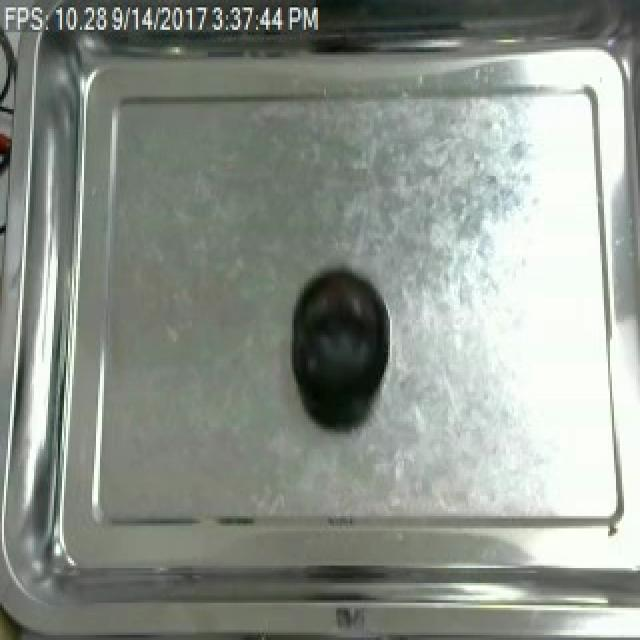Fruit: (286, 263, 392, 429)
